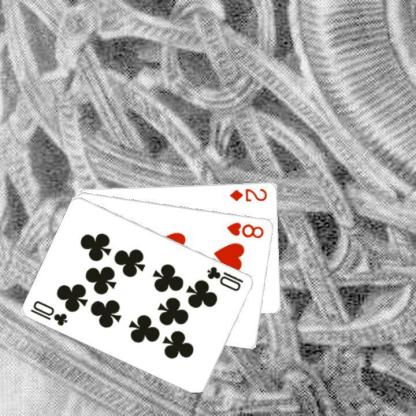10C: (28, 298, 69, 327), (205, 263, 245, 292)
2D: (228, 186, 268, 202)
8H: (224, 219, 265, 240)
